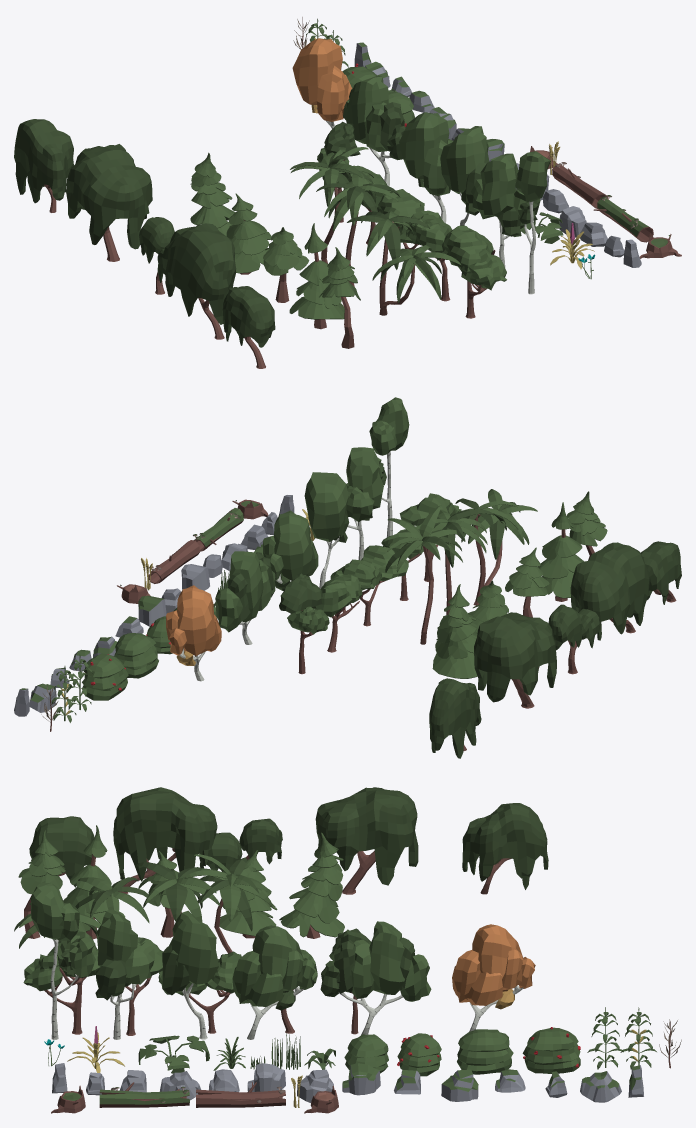
The model's file is Nature.fbx.
3 renders of one model, top to bottom at view 1: azimuth 30°, elevation 25°; view 2: azimuth 150°, elevation 25°; view 3: azimuth 270°, elevation 25°, orthographic. The views are drawn at different scales.
Parts seen in each view (by area): view 1: Willow_4_Cube.043, Willow_2_Cube.011, Willow_1_Cube.010, BirchTree_4, BirchTree_Autumn_1, BirchTree_1, BirchTree_3, CommonTree_2, BirchTree_2, Willow_3_Cube.012, PineTree_2, BirchTree_5 (+18 smaller); view 2: Willow_4_Cube.043, Willow_2_Cube.011, BirchTree_4, BirchTree_Autumn_1, Willow_1_Cube.010, BirchTree_1, BirchTree_2, PineTree_3, PalmTree_1, BirchTree_3, CommonTree_3, PineTree_2 (+21 smaller); view 3: Willow_4_Cube.043, Willow_2_Cube.011, BirchTree_4, BirchTree_1, BirchTree_Autumn_1, Willow_1_Cube.010, BirchTree_3, BirchTree_5, PineTree_3, BirchTree_2, PalmTree_1, Willow_5_Cube.046 (+33 smaller).
Part boxes in pixels (x1,y1,x2,y2): Willow_4_Cube.043: (66,144,152,261); Willow_2_Cube.011: (162,223,236,339); Willow_1_Cube.010: (14,119,73,212); BirchTree_4: (343,75,405,185); BirchTree_Autumn_1: (292,38,352,128); BirchTree_1: (399,112,450,223); BirchTree_3: (471,153,524,267); CommonTree_2: (442,225,506,318); BirchTree_2: (440,126,489,225); Willow_3_Cube.012: (222,286,275,368); PineTree_2: (289,223,344,329); BirchTree_5: (513,151,550,294); Willow_4_Cube.043: (474,612,556,708); Willow_2_Cube.011: (570,542,649,634); BirchTree_4: (215,551,275,644); BirchTree_Autumn_1: (166,585,221,681); Willow_1_Cube.010: (429,678,481,758); BirchTree_1: (263,510,318,590); BirchTree_2: (304,472,349,588); PineTree_3: (432,584,477,678); PalmTree_1: (382,505,464,644); BirchTree_3: (346,447,383,560); CommonTree_3: (279,573,329,674); PineTree_2: (538,502,584,601); Willow_4_Cube.043: (315,787,418,894); Willow_2_Cube.011: (113,787,217,893); BirchTree_4: (320,921,431,1035); BirchTree_1: (232,925,315,1039); BirchTree_Autumn_1: (452,924,535,1031); Willow_1_Cube.010: (462,803,548,894); BirchTree_3: (95,909,154,1039); BirchTree_5: (30,883,95,1039); PineTree_3: (279,832,344,938); BirchTree_2: (162,910,218,1039); PalmTree_1: (184,854,272,953); Willow_5_Cube.046: (199,818,282,871).
Size of the model in its own units: 1664 by 571 by 1979.
